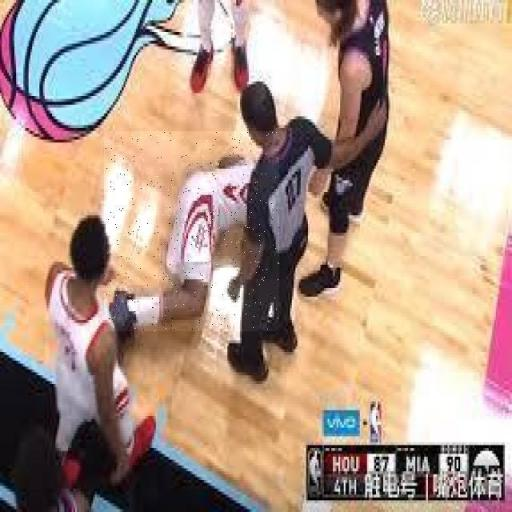Fall: (104, 131, 279, 331)
